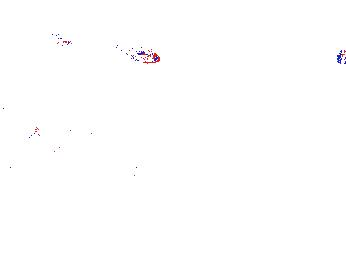red belly glassfish: (117, 44, 162, 65), (46, 31, 70, 47)
redtail glassfish: (28, 120, 96, 144)
